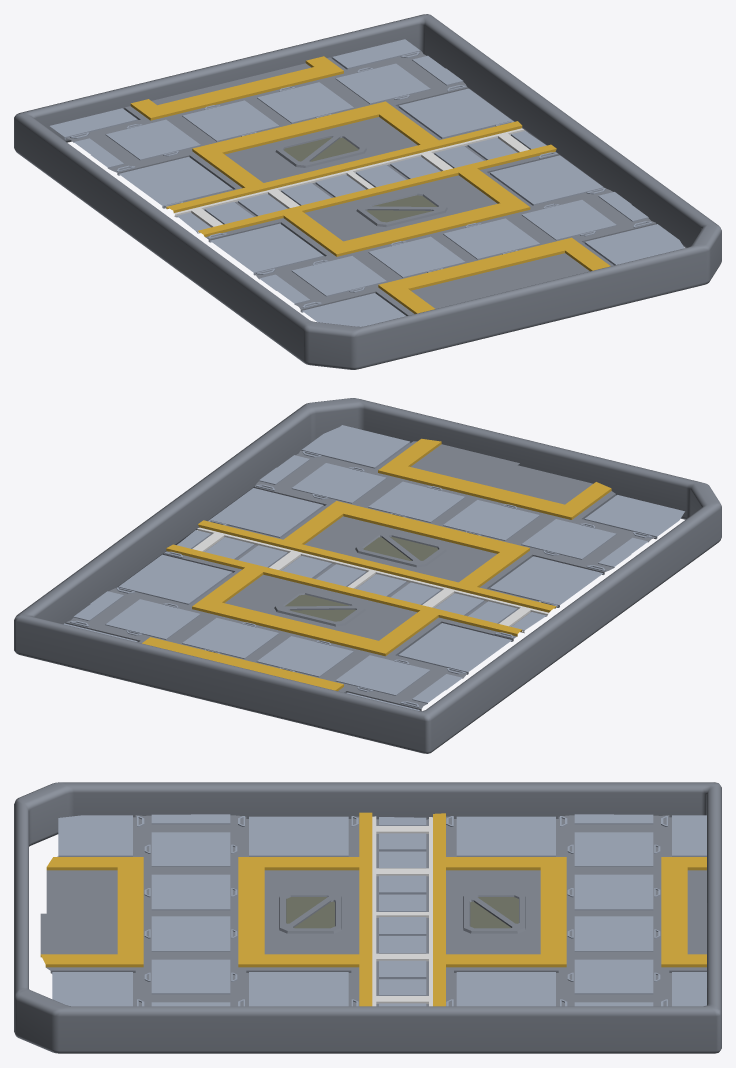
Rendered from Bonus_Level_Ground_.fbx.
3 renders of one model, top to bottom at view 1: azimuth 30°, elevation 25°; view 2: azimuth 150°, elevation 25°; view 3: azimuth 270°, elevation 25°, orthographic. The views are drawn at different scales.
Parts seen in each view (by area): view 1: pCube95 (×4), Border, pCube100 (×4), pCube87 (×2), pPlane1 (×2); view 2: Border, pCube95 (×4), pCube100 (×4), pCube87 (×2), pPlane1 (×2); view 3: pCube95 (×4), Border, pCube100 (×4), pCube87 (×2), pPlane1 (×2).
Part boxes in pixels (bbox=[...]): pCube95 (×4): bbox=[50, 68, 684, 290]; Border: bbox=[14, 14, 721, 369]; pCube100 (×4): bbox=[205, 39, 631, 326]; pCube87 (×2): bbox=[275, 132, 447, 227]; pPlane1 (×2): bbox=[284, 137, 437, 222]; Border: bbox=[14, 398, 721, 753]; pCube95 (×4): bbox=[90, 425, 556, 710]; pCube100 (×4): bbox=[64, 465, 684, 666]; pCube87 (×2): bbox=[274, 531, 446, 626]; pPlane1 (×2): bbox=[285, 537, 438, 621]; pCube95 (×4): bbox=[40, 812, 706, 1006]; Border: bbox=[14, 782, 721, 1053]; pCube100 (×4): bbox=[46, 814, 706, 1006]; pCube87 (×2): bbox=[279, 892, 525, 933]; pPlane1 (×2): bbox=[286, 897, 518, 928].
Size of the model in its own units: 410 by 36.61 by 530.
